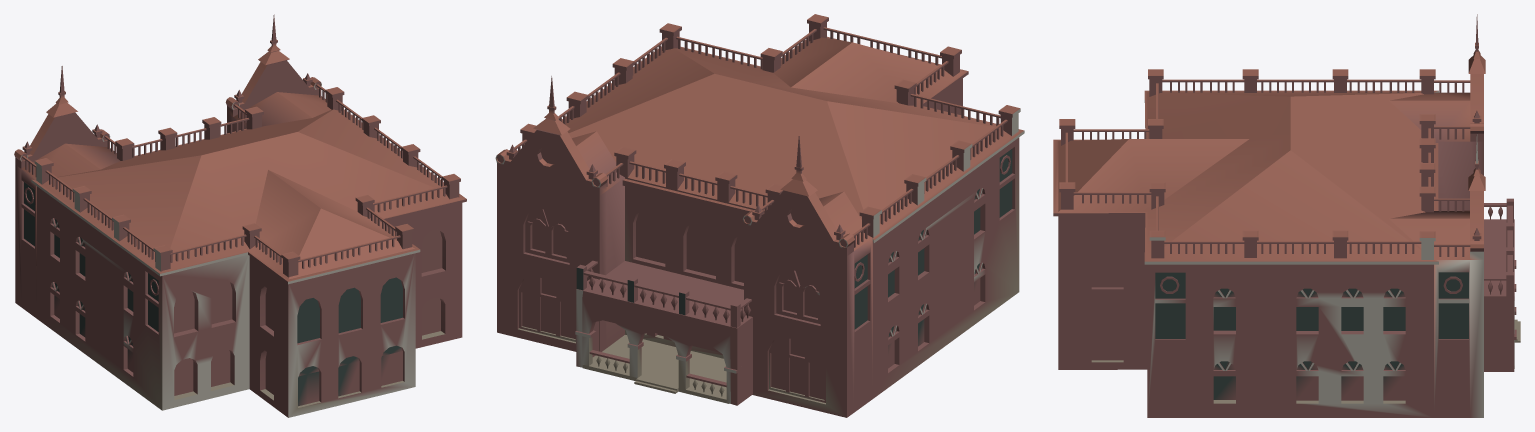
3 views of the same model, side by side, from view 1: azimuth 30°, elevation 25°; view 2: azimuth 150°, elevation 25°; view 3: azimuth 270°, elevation 25° (orthographic). The views are drawn at different scales.
Visible parts, largest first — view 1: polySurface34:PIV; view 2: polySurface34:PIV; view 3: polySurface34:PIV.
Part boxes in pixels (bbox=[...]): polySurface34:PIV: bbox=[14, 14, 466, 417]; polySurface34:PIV: bbox=[495, 14, 1024, 417]; polySurface34:PIV: bbox=[1053, 14, 1520, 417].
Size of the model in its own units: 8.06 by 5.74 by 9.31.
